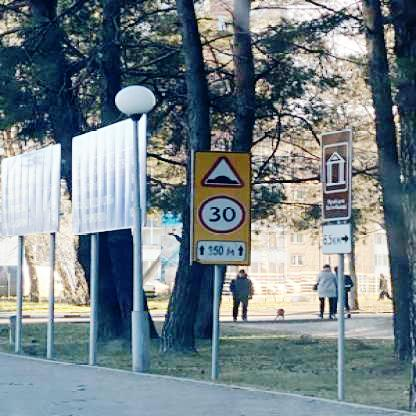Speed Limit -30-: (197, 194, 250, 235)
